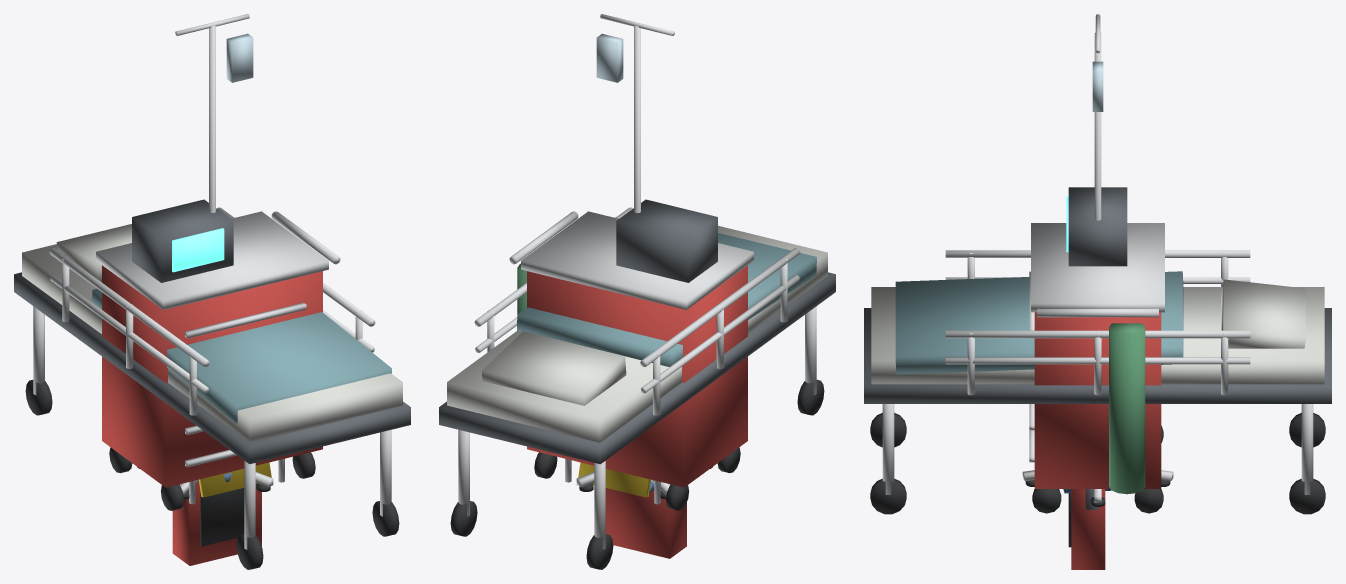
File: props.glb
3 views of the same model, side by side, from view 1: azimuth 30°, elevation 25°; view 2: azimuth 150°, elevation 25°; view 3: azimuth 270°, elevation 25° (orthographic).
Visible parts, largest first — view 1: _o.022, _o.003, _o.001, _o.023, _o, _o.029, _o.058, _o.059, _o.002, _o.030, _o.004, _o.005 (+13 smaller); view 2: _o.022, _o.001, _o.023, _o, _o.002, _o.029, _o.003, _o.058, _o.004, _o.005, _o.047, _o.049 (+10 smaller); view 3: _o.003, _o.022, _o.001, _o, _o.023, _o.031, _o.002, _o.029, _o.058, _o.013, _o.014, _o.004 (+11 smaller).
Boxes of the visible parts, <box> form: _o.022: <box>102,265,322,487</box>; _o.003: <box>92,288,391,423</box>; _o.001: <box>22,244,402,442</box>; _o.023: <box>96,211,328,309</box>; _o: <box>14,272,410,464</box>; _o.029: <box>132,199,233,282</box>; _o.058: <box>172,481,261,565</box>; _o.059: <box>200,488,244,546</box>; _o.002: <box>56,224,131,281</box>; _o.030: <box>172,228,224,272</box>; _o.004: <box>49,248,209,366</box>; _o.005: <box>50,275,208,393</box>; _o.022: <box>527,265,747,487</box>; _o.001: <box>447,225,827,442</box>; _o.023: <box>521,211,753,309</box>; _o: <box>439,272,835,464</box>; _o.002: <box>481,331,626,405</box>; _o.029: <box>616,199,717,282</box>; _o.003: <box>517,233,816,366</box>; _o.058: <box>605,484,686,558</box>; _o.004: <box>640,248,800,366</box>; _o.005: <box>641,275,799,393</box>; _o.047: <box>634,25,640,213</box>; _o.049: <box>596,33,623,82</box>; _o.003: <box>895,271,1183,374</box>; _o.022: <box>1034,312,1161,488</box>; _o.001: <box>871,287,1324,384</box>; _o: <box>864,308,1331,403</box>; _o.023: <box>1031,223,1164,312</box>; _o.031: <box>1109,323,1145,494</box>; _o.002: <box>1221,279,1305,348</box>; _o.029: <box>1068,187,1127,266</box>; _o.058: <box>1071,489,1105,569</box>; _o.013: <box>945,330,1250,338</box>; _o.014: <box>945,357,1250,364</box>; _o.004: <box>945,250,1250,257</box>.
Bounding box in the file's own units: 0.8902 × 2.36 × 1.92.
